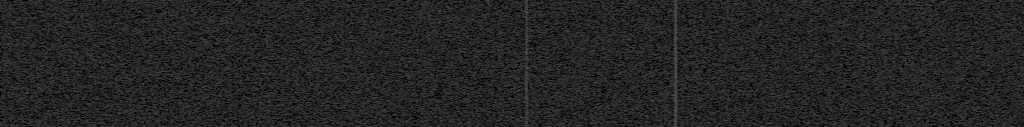wv_am: (524, 0, 529, 127)
wv_cw: (669, 0, 683, 127)
wv_lsb: (920, 20, 924, 28), (920, 29, 924, 33), (920, 15, 924, 19), (921, 40, 924, 43)
